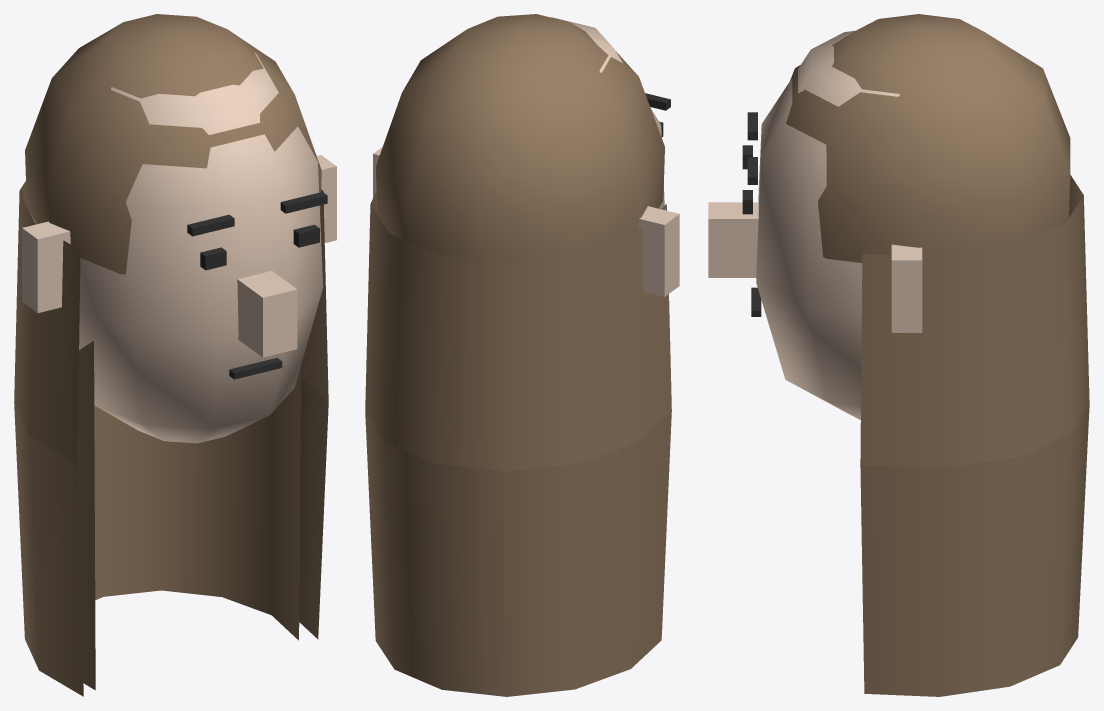
The model's file is head_longhair.glb.
3 views of the same model, side by side, from view 1: azimuth 30°, elevation 25°; view 2: azimuth 150°, elevation 25°; view 3: azimuth 270°, elevation 25° (orthographic). The views are drawn at different scales.
Parts seen in each view (by area): view 1: head_longhair; view 2: head_longhair; view 3: head_longhair.
Boxes of the visible parts, bbox=[...] form: head_longhair: bbox=[14, 14, 336, 696]; head_longhair: bbox=[365, 14, 679, 696]; head_longhair: bbox=[708, 14, 1089, 696].
Size of the model in its own units: 0.199 by 0.392 by 0.2227.
